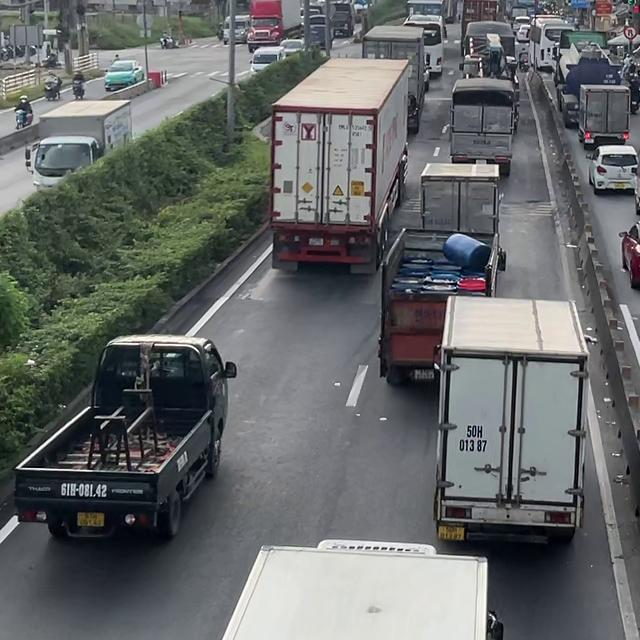bus: (401, 13, 447, 77), (527, 15, 577, 71)
car: (588, 144, 639, 194), (618, 219, 639, 289), (103, 59, 144, 91), (249, 45, 286, 75), (279, 38, 305, 57)
motorcycle: (13, 107, 32, 130), (43, 82, 61, 100), (71, 78, 85, 99)
truck: (12, 333, 237, 541), (432, 294, 590, 545), (268, 56, 411, 274), (216, 538, 504, 639), (378, 227, 505, 385), (26, 99, 134, 193), (361, 25, 428, 133), (447, 76, 520, 175), (555, 31, 622, 127), (419, 162, 501, 235), (577, 83, 630, 149), (246, 0, 305, 53), (461, 32, 511, 78), (459, 0, 499, 41)
